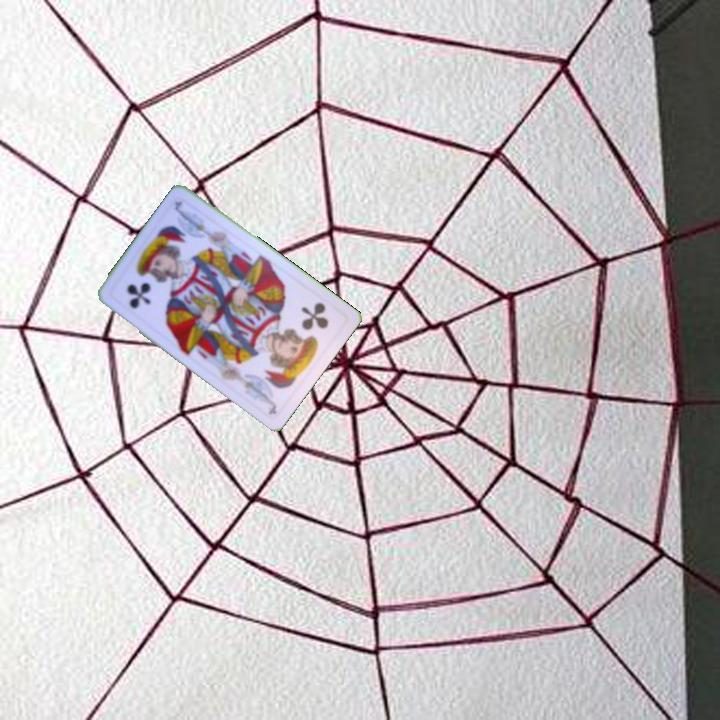c_j.png: (265, 284, 350, 371), (106, 242, 190, 328)
